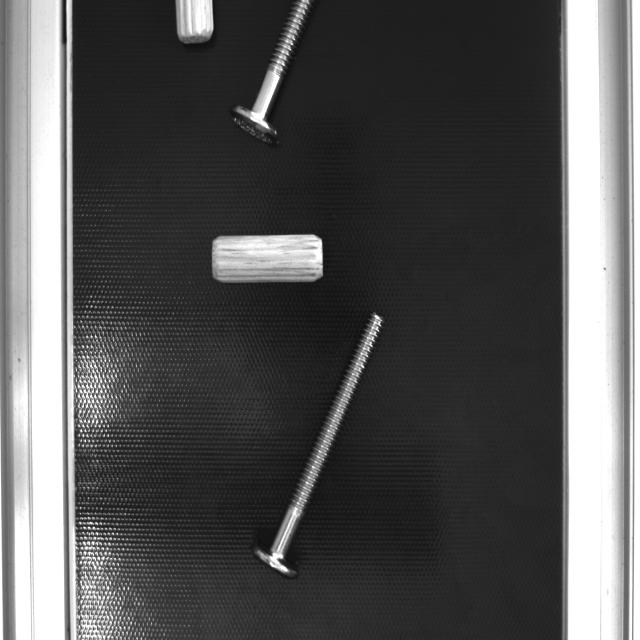Chot go: (211, 232, 325, 286), (174, 1, 217, 46)
bulon: (269, 311, 386, 559), (251, 2, 314, 119)
